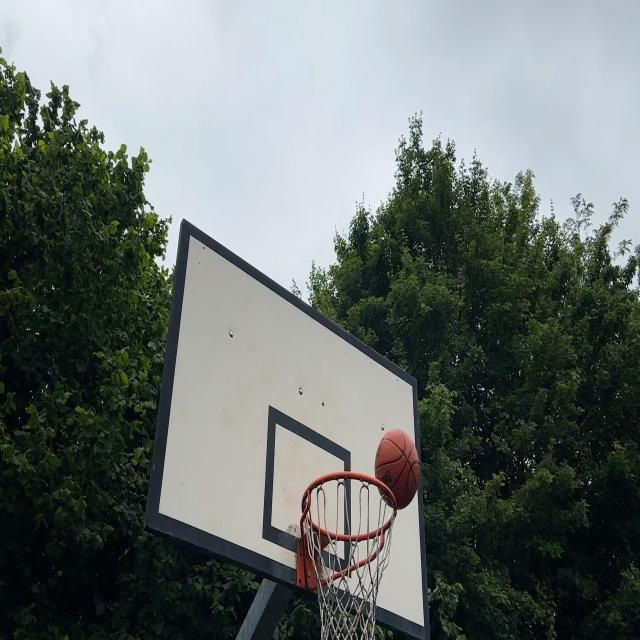rebound_hit: (373, 430, 420, 511)
